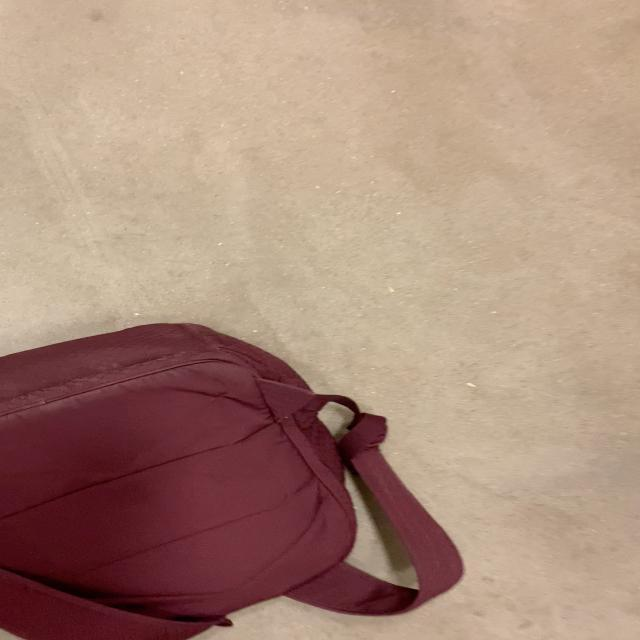Backpacks: (0, 323, 404, 640)
